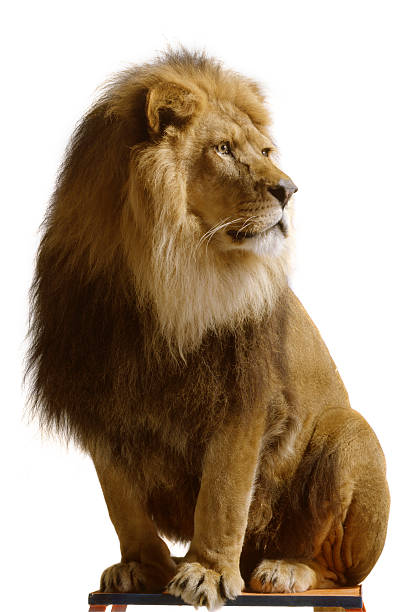lion: (16, 31, 312, 465)
